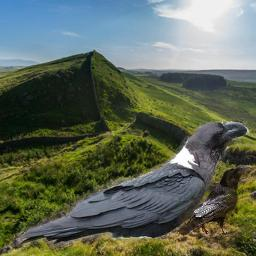Crow: (16, 121, 249, 247), (176, 167, 247, 236)
